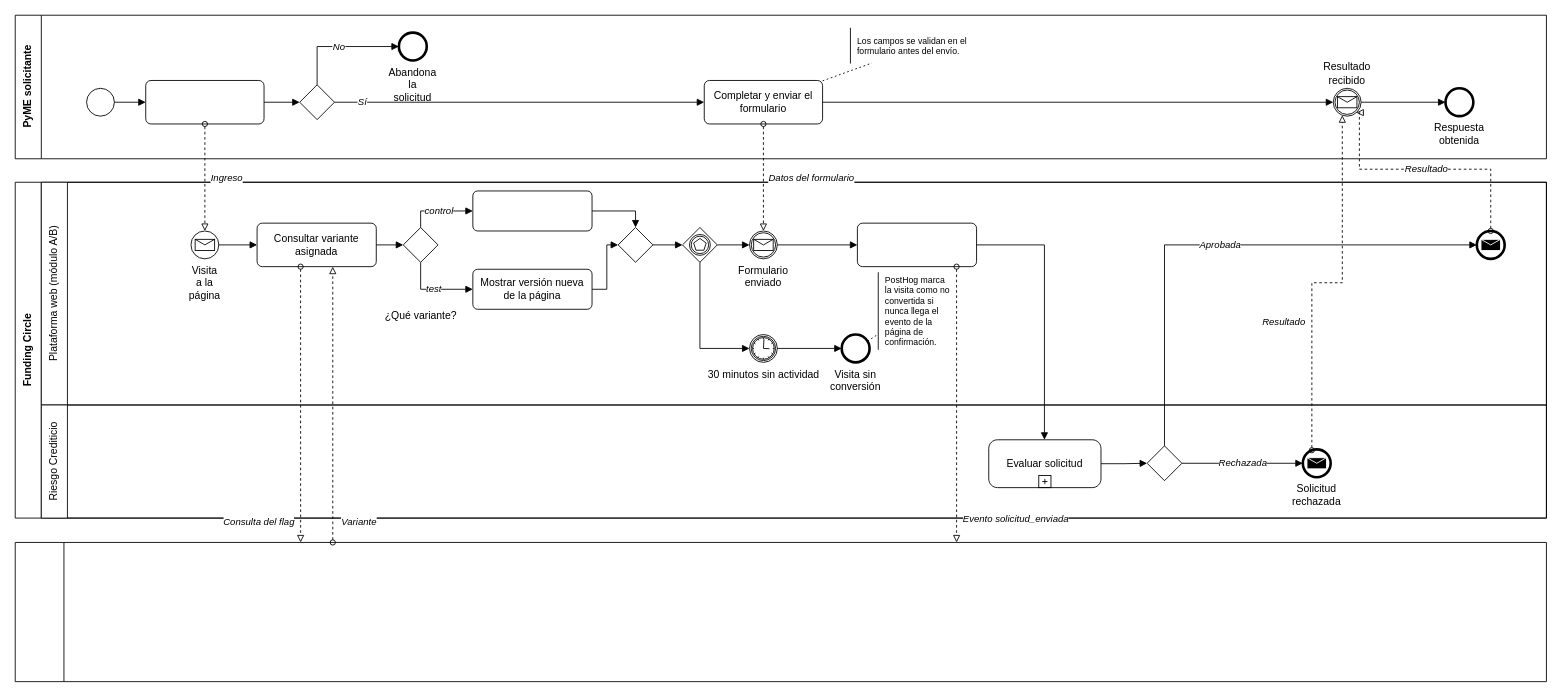
Image size: 1562x697. Some labels were removed from this diagram. The centre of each missing label's shape, as x and y in pixels:
"Ingresar y revisar la página de solicitud" goes at (x=204, y=102).
"Mostrar página de confirmación" goes at (x=917, y=244).
"Mostrar versión actual de la página" goes at (x=532, y=210).
"Necesita financiamiento" goes at (x=100, y=101).
"PostHog (servicio externo de analítica y feature flags)" goes at (x=780, y=612).
"Solicitud aprobada" goes at (x=1490, y=244).
"¿Completa la solicitud?" goes at (x=317, y=102).
"¿Resultado de la evaluación?" goes at (x=1164, y=463).
